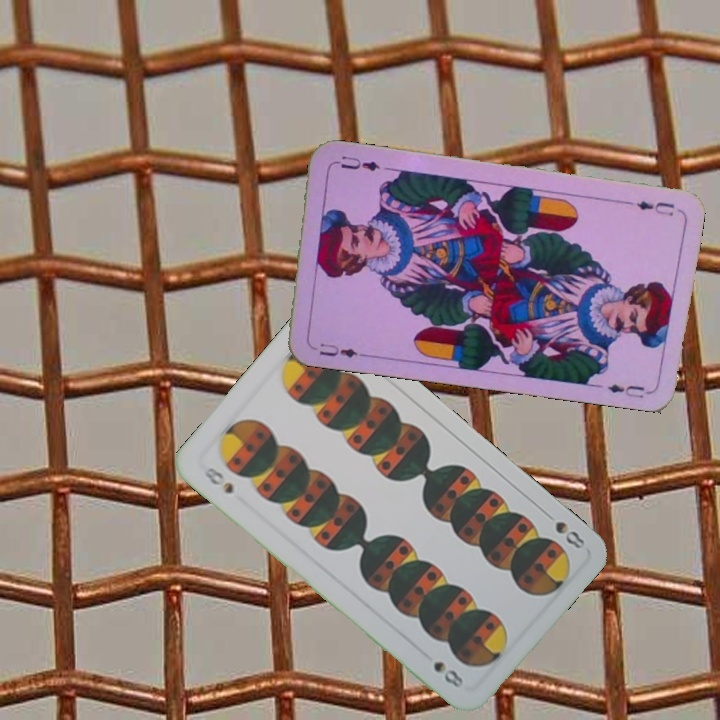EU: (620, 196, 677, 218), (316, 339, 367, 360)
S8: (539, 506, 588, 552), (199, 462, 236, 497)
